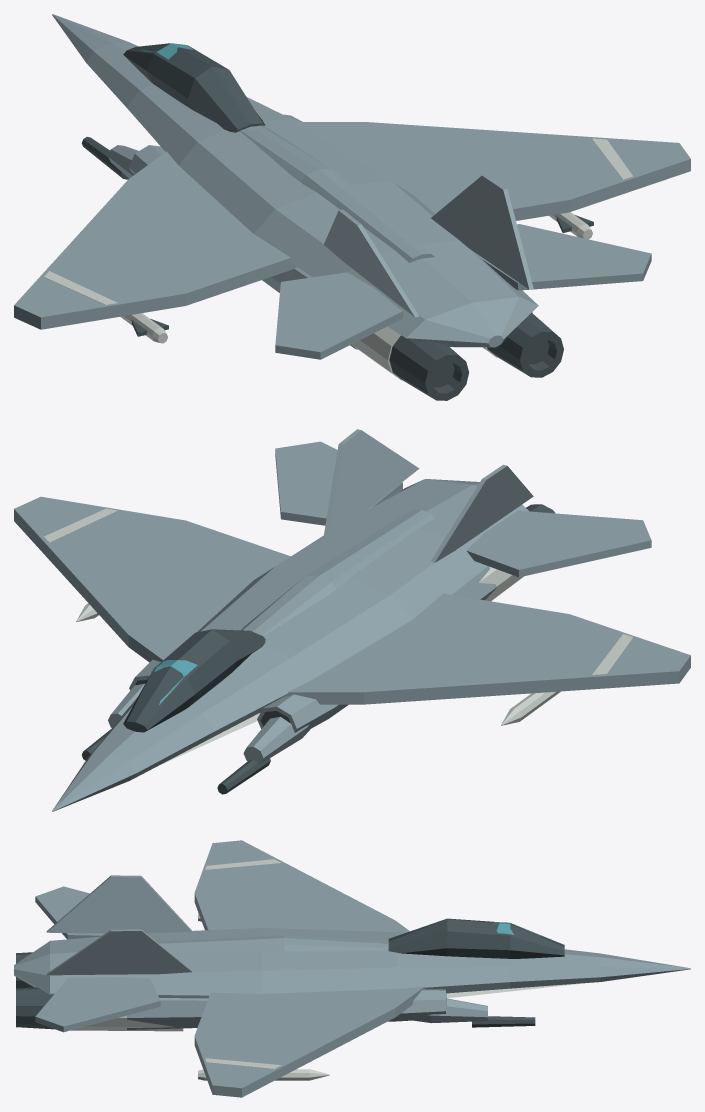
File: fighter-v1.glb
The picture shows the model from 3 angles, top to bottom: view 1: azimuth 30°, elevation 25°; view 2: azimuth 150°, elevation 25°; view 3: azimuth 270°, elevation 25°; orthographic projection. The views are drawn at different scales.
Parts seen in each view (by area): view 1: fighter-airframe; view 2: fighter-airframe; view 3: fighter-airframe.
Part boxes in pixels (x1,y1,x2,y2): fighter-airframe: [14, 14, 690, 400]; fighter-airframe: [14, 429, 690, 811]; fighter-airframe: [14, 840, 690, 1097].
Bounding box in the file's own units: 26 × 5.29 × 30.
